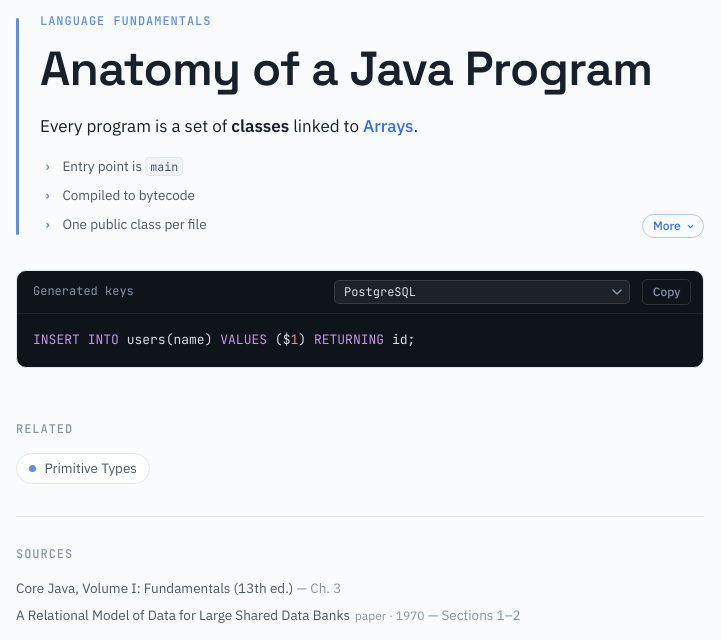
Scenario: renders and switches code variants from topic content
Expected: the element showing "INSERT INTO users(name) VALUES ($1) RETURNING id;" is shown, [33,332,415,348]
Select "MySQL" in the dropdown at (482, 292), box [334,280,630,304]
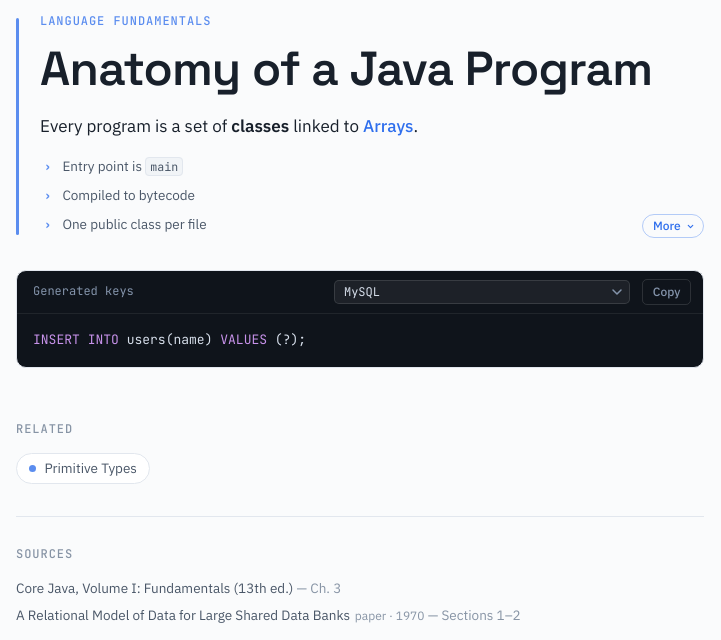
Now the element showing "INSERT INTO users(name) VALUES (?);" is shown, box [33,332,306,348]
Now the element showing "INSERT INTO users(name) VALUES (?);" no longer shows "RETURNING id", box [33,332,306,348]
